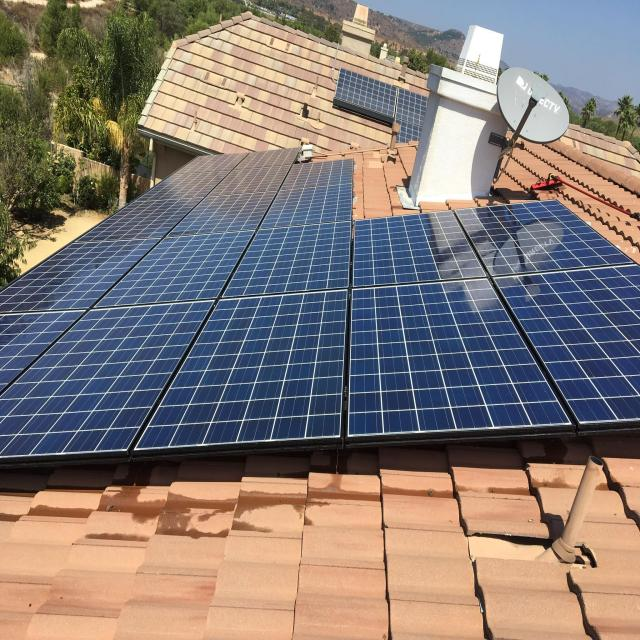clean-solar-panel: (0, 144, 640, 464)
